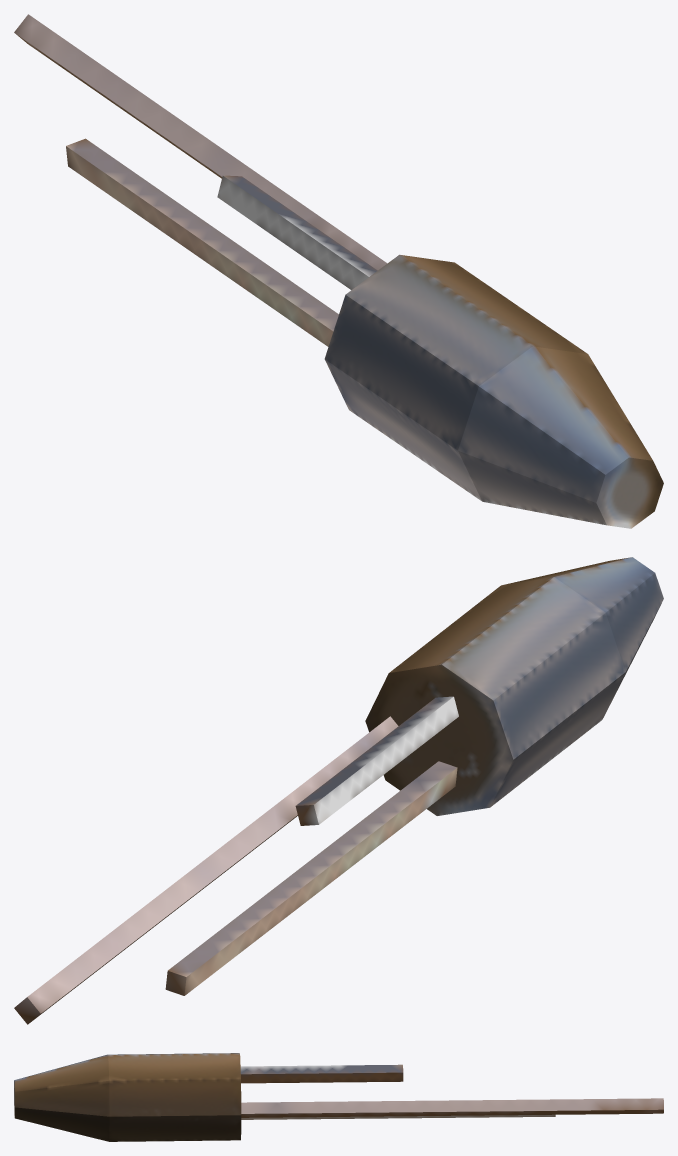
3 renders of one model, top to bottom at view 1: azimuth 30°, elevation 25°; view 2: azimuth 150°, elevation 25°; view 3: azimuth 270°, elevation 25°, orthographic. The views are drawn at different scales.
Visible parts, largest first — view 1: Bala_Cylinder.003, Estela_3_Cube.008, Estela_1_Cube.006, Estela_2_Cube.007; view 2: Bala_Cylinder.003, Estela_3_Cube.008, Estela_1_Cube.006, Estela_2_Cube.007; view 3: Bala_Cylinder.003, Estela_1_Cube.006, Estela_2_Cube.007, Estela_3_Cube.008.
Part boxes in pixels (left/top/right/bottom): Bala_Cylinder.003: left=324, top=254, right=663, bottom=528; Estela_3_Cube.008: left=66, top=138, right=338, bottom=346; Estela_1_Cube.006: left=14, top=14, right=387, bottom=270; Estela_2_Cube.007: left=217, top=175, right=377, bottom=289; Bala_Cylinder.003: left=365, top=557, right=663, bottom=815; Estela_3_Cube.008: left=165, top=761, right=457, bottom=995; Estela_1_Cube.006: left=14, top=716, right=398, bottom=1024; Estela_2_Cube.007: left=295, top=696, right=458, bottom=825; Bala_Cylinder.003: left=14, top=1053, right=241, bottom=1141; Estela_1_Cube.006: left=241, top=1098, right=663, bottom=1117; Estela_2_Cube.007: left=240, top=1064, right=403, bottom=1083; Estela_3_Cube.008: left=241, top=1114, right=555, bottom=1119.
Size of what is drawn, in the model's own units: 0.2913 by 0.2804 by 1.94.
